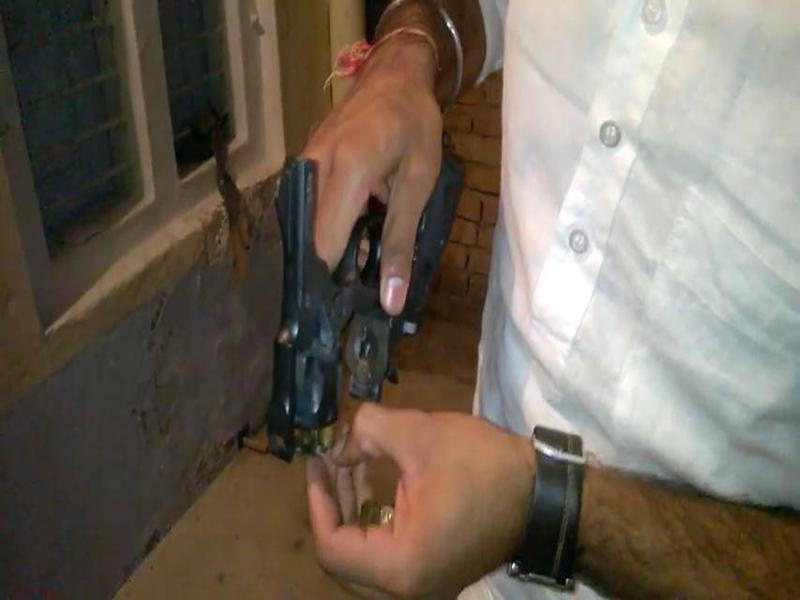Revolver: (237, 121, 366, 455)
